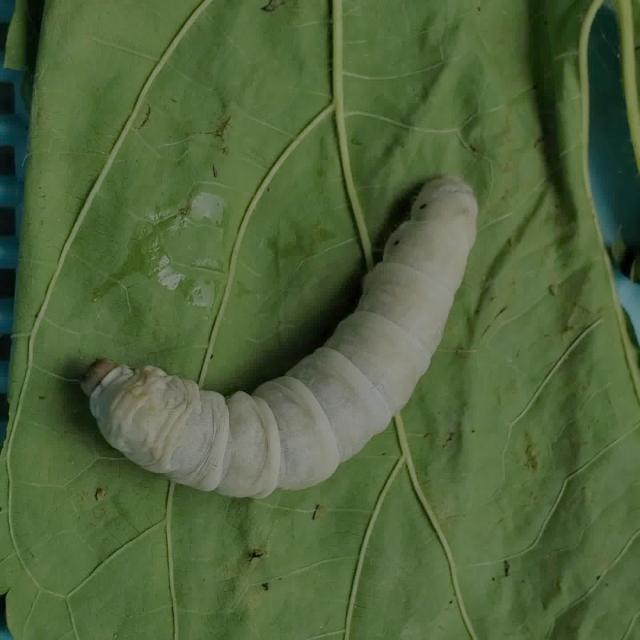Grasserie: (70, 164, 483, 498)
